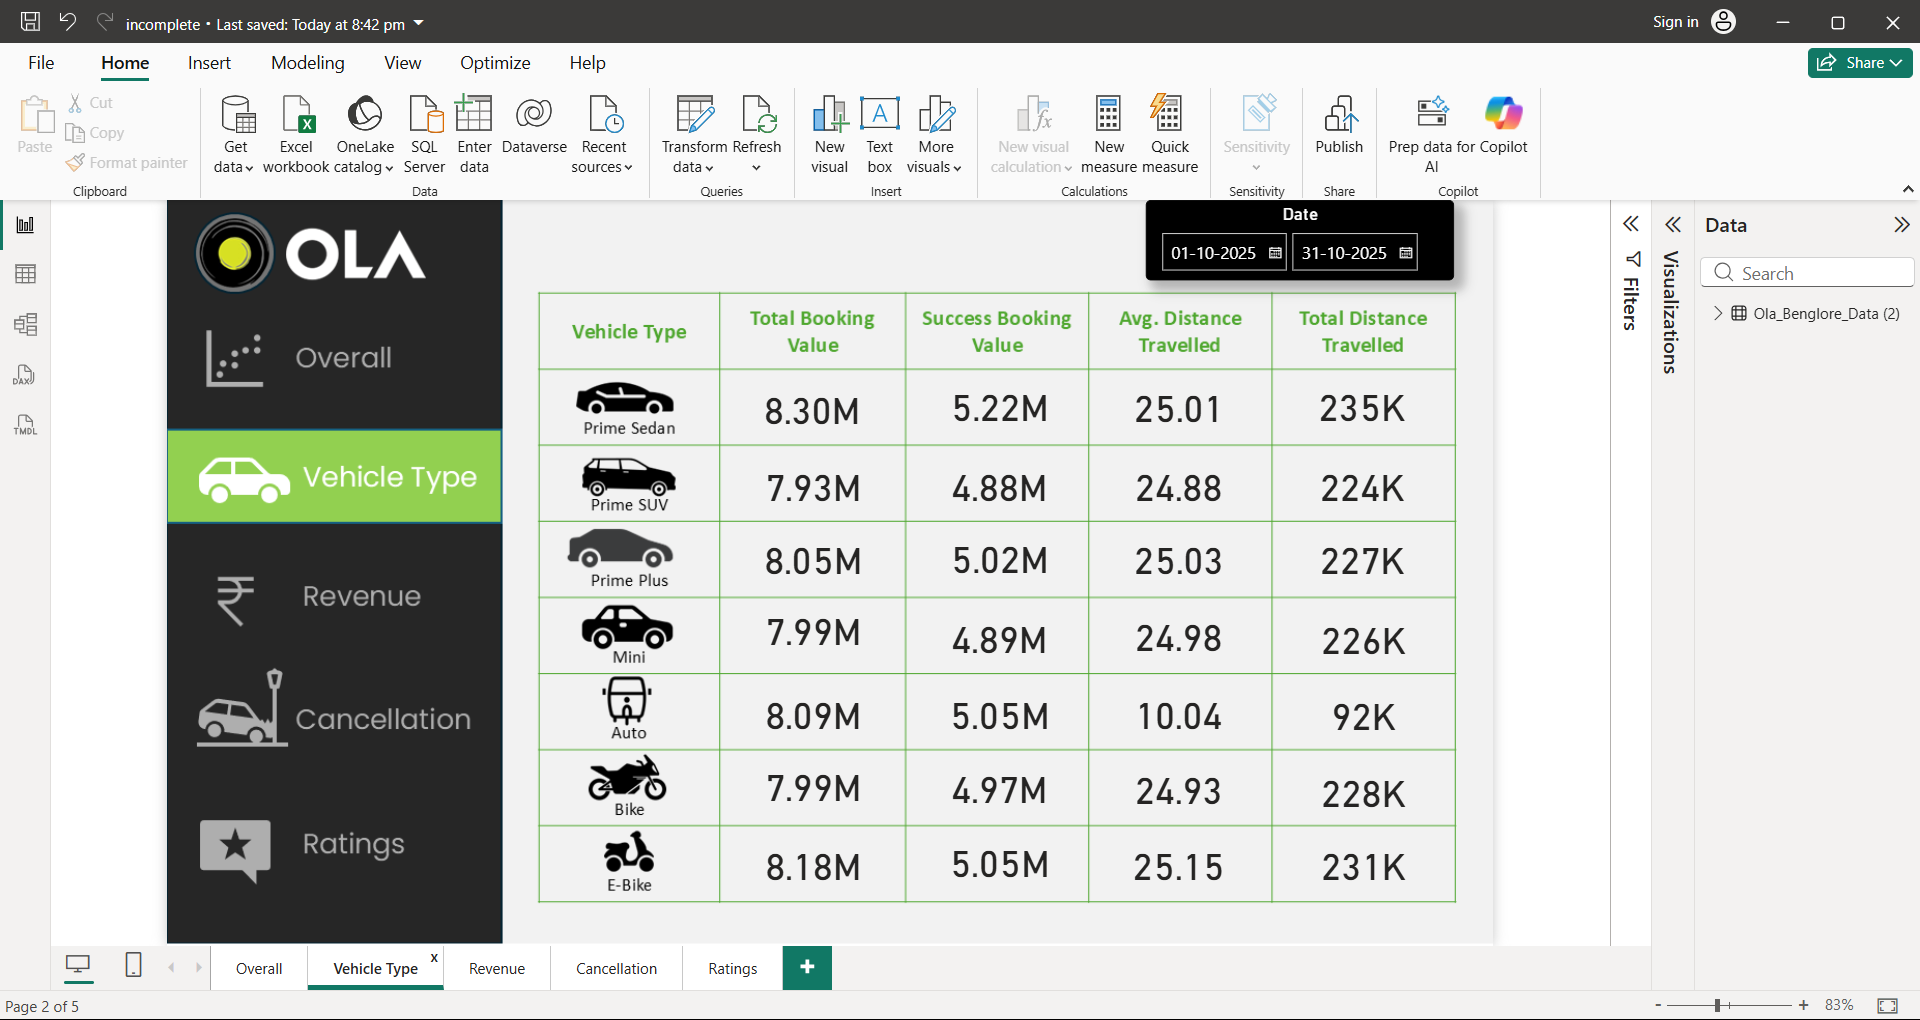

This screenshot's page, from the dashboard's own definition file:
{"tool":"powerbi","page":{"name":"Vehicle Type","canvas":[1280,720],"ordinal":1},"visuals":[{"type":"actionButton","box":[0,446.4,323.3,96.5],"z":0},{"type":"actionButton","box":[0,343.8,323.3,91.7],"z":1000},{"type":"actionButton","box":[0,582.7,323.3,91.7],"z":2000},{"type":"actionButton","box":[0,111,323.3,91.7],"z":3000},{"type":"card","fields":{"Values":["Sum(Ola_Benglore_Data (2).Booking_Value)"]},"box":[537.2,164.9,172.3,70.2],"z":4000},{"type":"card","fields":{"Values":["Sum(Ola_Benglore_Data (2).Booking_Value)"]},"box":[537.5,240.3,172.2,69.4],"z":5000},{"type":"card","fields":{"Values":["Sum(Ola_Benglore_Data (2).Booking_Value)"]},"box":[537.5,309.7,172.2,69.4],"z":6000},{"type":"card","fields":{"Values":["Sum(Ola_Benglore_Data (2).Booking_Value)"]},"box":[537.5,379.2,172.2,69.4],"z":7000},{"type":"card","fields":{"Values":["Sum(Ola_Benglore_Data (2).Booking_Value)"]},"box":[537.5,459.7,172.2,69.4],"z":8000},{"type":"card","fields":{"Values":["Sum(Ola_Benglore_Data (2).Booking_Value)"]},"box":[537.5,529.2,172.2,69.4],"z":9000},{"type":"card","fields":{"Values":["Sum(Ola_Benglore_Data (2).Booking_Value)"]},"box":[537.5,605.6,172.2,69.4],"z":10000},{"type":"card","fields":{"Values":["Sum(Ola_Benglore_Data (2).Booking_Value)"]},"box":[719.4,165.3,169.4,63.9],"z":11000},{"type":"card","fields":{"Values":["Sum(Ola_Benglore_Data (2).Booking_Value)"]},"box":[719.4,243.1,169.4,63.9],"z":12000},{"type":"card","fields":{"Values":["Sum(Ola_Benglore_Data (2).Booking_Value)"]},"box":[719.4,312.5,169.4,63.9],"z":13000},{"type":"card","fields":{"Values":["Sum(Ola_Benglore_Data (2).Booking_Value)"]},"box":[719.4,605.6,169.4,63.9],"z":14000},{"type":"card","fields":{"Values":["Sum(Ola_Benglore_Data (2).Booking_Value)"]},"box":[719.4,534.7,169.4,63.9],"z":15000},{"type":"card","fields":{"Values":["Sum(Ola_Benglore_Data (2).Booking_Value)"]},"box":[713.9,459.7,179.2,69.4],"z":16000},{"type":"card","fields":{"Values":["Sum(Ola_Benglore_Data (2).Booking_Value)"]},"box":[719.4,390.3,169.4,63.9],"z":17000},{"type":"card","fields":{"Values":["Avg(Ola_Benglore_Data (2).Ride_Distance)"]},"box":[888.9,156.9,175,83.3],"z":18000},{"type":"card","fields":{"Values":["Avg(Ola_Benglore_Data (2).Ride_Distance)"]},"box":[888.9,240.3,175,69.4],"z":19000},{"type":"card","fields":{"Values":["Avg(Ola_Benglore_Data (2).Ride_Distance)"]},"box":[888.9,309.7,175,69.4],"z":20000},{"type":"card","fields":{"Values":["Avg(Ola_Benglore_Data (2).Ride_Distance)"]},"box":[888.9,384.7,175,69.4],"z":21000},{"type":"card","fields":{"Values":["Avg(Ola_Benglore_Data (2).Ride_Distance)"]},"box":[888.9,459.7,175,69.4],"z":22000},{"type":"card","fields":{"Values":["Avg(Ola_Benglore_Data (2).Ride_Distance)"]},"box":[888.9,531.9,175,69.4],"z":23000},{"type":"card","fields":{"Values":["Avg(Ola_Benglore_Data (2).Ride_Distance)"]},"box":[888.9,605.6,175,69.4],"z":24000},{"type":"card","fields":{"Values":["Sum(Ola_Benglore_Data (2).Ride_Distance)"]},"box":[1063.9,155.6,179.2,83.3],"z":25000},{"type":"card","fields":{"Values":["Sum(Ola_Benglore_Data (2).Ride_Distance)"]},"box":[1066.7,240.3,175,69.4],"z":26000},{"type":"card","fields":{"Values":["Sum(Ola_Benglore_Data (2).Ride_Distance)"]},"box":[1066.7,309.7,175,69.4],"z":27000},{"type":"card","fields":{"Values":["Sum(Ola_Benglore_Data (2).Ride_Distance)"]},"box":[1068.1,387.5,175,69.4],"z":28000},{"type":"card","fields":{"Values":["Sum(Ola_Benglore_Data (2).Ride_Distance)"]},"box":[1068.1,459.7,175,72.2],"z":29000},{"type":"card","fields":{"Values":["Sum(Ola_Benglore_Data (2).Ride_Distance)"]},"box":[1068.1,536.1,175,69.4],"z":30000},{"type":"card","fields":{"Values":["Sum(Ola_Benglore_Data (2).Ride_Distance)"]},"box":[1068.1,605.6,175,69.4],"z":31000},{"type":"slicer","title":"Date","fields":{"Values":["Ola_Benglore_Data (2).Date"]},"box":[944.4,0,297.2,77.8],"z":32000}]}

Visuals, with their boxes on the page's 1280x720 design canvas (x1, y1, x2, y2). These are canvas units, not pixel positions in the 1920x1020 screenshot, which may show the page scaled, cropped or inside an application window:
actionButton: Rect(0, 446, 323, 543)
actionButton: Rect(0, 344, 323, 436)
actionButton: Rect(0, 583, 323, 674)
actionButton: Rect(0, 111, 323, 203)
card - Sum(Ola_Benglore_Data (2).Booking_Value): Rect(537, 165, 710, 235)
card - Sum(Ola_Benglore_Data (2).Booking_Value): Rect(538, 240, 710, 310)
card - Sum(Ola_Benglore_Data (2).Booking_Value): Rect(538, 310, 710, 379)
card - Sum(Ola_Benglore_Data (2).Booking_Value): Rect(538, 379, 710, 449)
card - Sum(Ola_Benglore_Data (2).Booking_Value): Rect(538, 460, 710, 529)
card - Sum(Ola_Benglore_Data (2).Booking_Value): Rect(538, 529, 710, 599)
card - Sum(Ola_Benglore_Data (2).Booking_Value): Rect(538, 606, 710, 675)
card - Sum(Ola_Benglore_Data (2).Booking_Value): Rect(719, 165, 889, 229)
card - Sum(Ola_Benglore_Data (2).Booking_Value): Rect(719, 243, 889, 307)
card - Sum(Ola_Benglore_Data (2).Booking_Value): Rect(719, 312, 889, 376)
card - Sum(Ola_Benglore_Data (2).Booking_Value): Rect(719, 606, 889, 670)
card - Sum(Ola_Benglore_Data (2).Booking_Value): Rect(719, 535, 889, 599)
card - Sum(Ola_Benglore_Data (2).Booking_Value): Rect(714, 460, 893, 529)
card - Sum(Ola_Benglore_Data (2).Booking_Value): Rect(719, 390, 889, 454)
card - Avg(Ola_Benglore_Data (2).Ride_Distance): Rect(889, 157, 1064, 240)
card - Avg(Ola_Benglore_Data (2).Ride_Distance): Rect(889, 240, 1064, 310)
card - Avg(Ola_Benglore_Data (2).Ride_Distance): Rect(889, 310, 1064, 379)
card - Avg(Ola_Benglore_Data (2).Ride_Distance): Rect(889, 385, 1064, 454)
card - Avg(Ola_Benglore_Data (2).Ride_Distance): Rect(889, 460, 1064, 529)
card - Avg(Ola_Benglore_Data (2).Ride_Distance): Rect(889, 532, 1064, 601)
card - Avg(Ola_Benglore_Data (2).Ride_Distance): Rect(889, 606, 1064, 675)
card - Sum(Ola_Benglore_Data (2).Ride_Distance): Rect(1064, 156, 1243, 239)
card - Sum(Ola_Benglore_Data (2).Ride_Distance): Rect(1067, 240, 1242, 310)
card - Sum(Ola_Benglore_Data (2).Ride_Distance): Rect(1067, 310, 1242, 379)
card - Sum(Ola_Benglore_Data (2).Ride_Distance): Rect(1068, 388, 1243, 457)
card - Sum(Ola_Benglore_Data (2).Ride_Distance): Rect(1068, 460, 1243, 532)
card - Sum(Ola_Benglore_Data (2).Ride_Distance): Rect(1068, 536, 1243, 606)
card - Sum(Ola_Benglore_Data (2).Ride_Distance): Rect(1068, 606, 1243, 675)
"Date" slicer: Rect(944, 0, 1242, 78)
